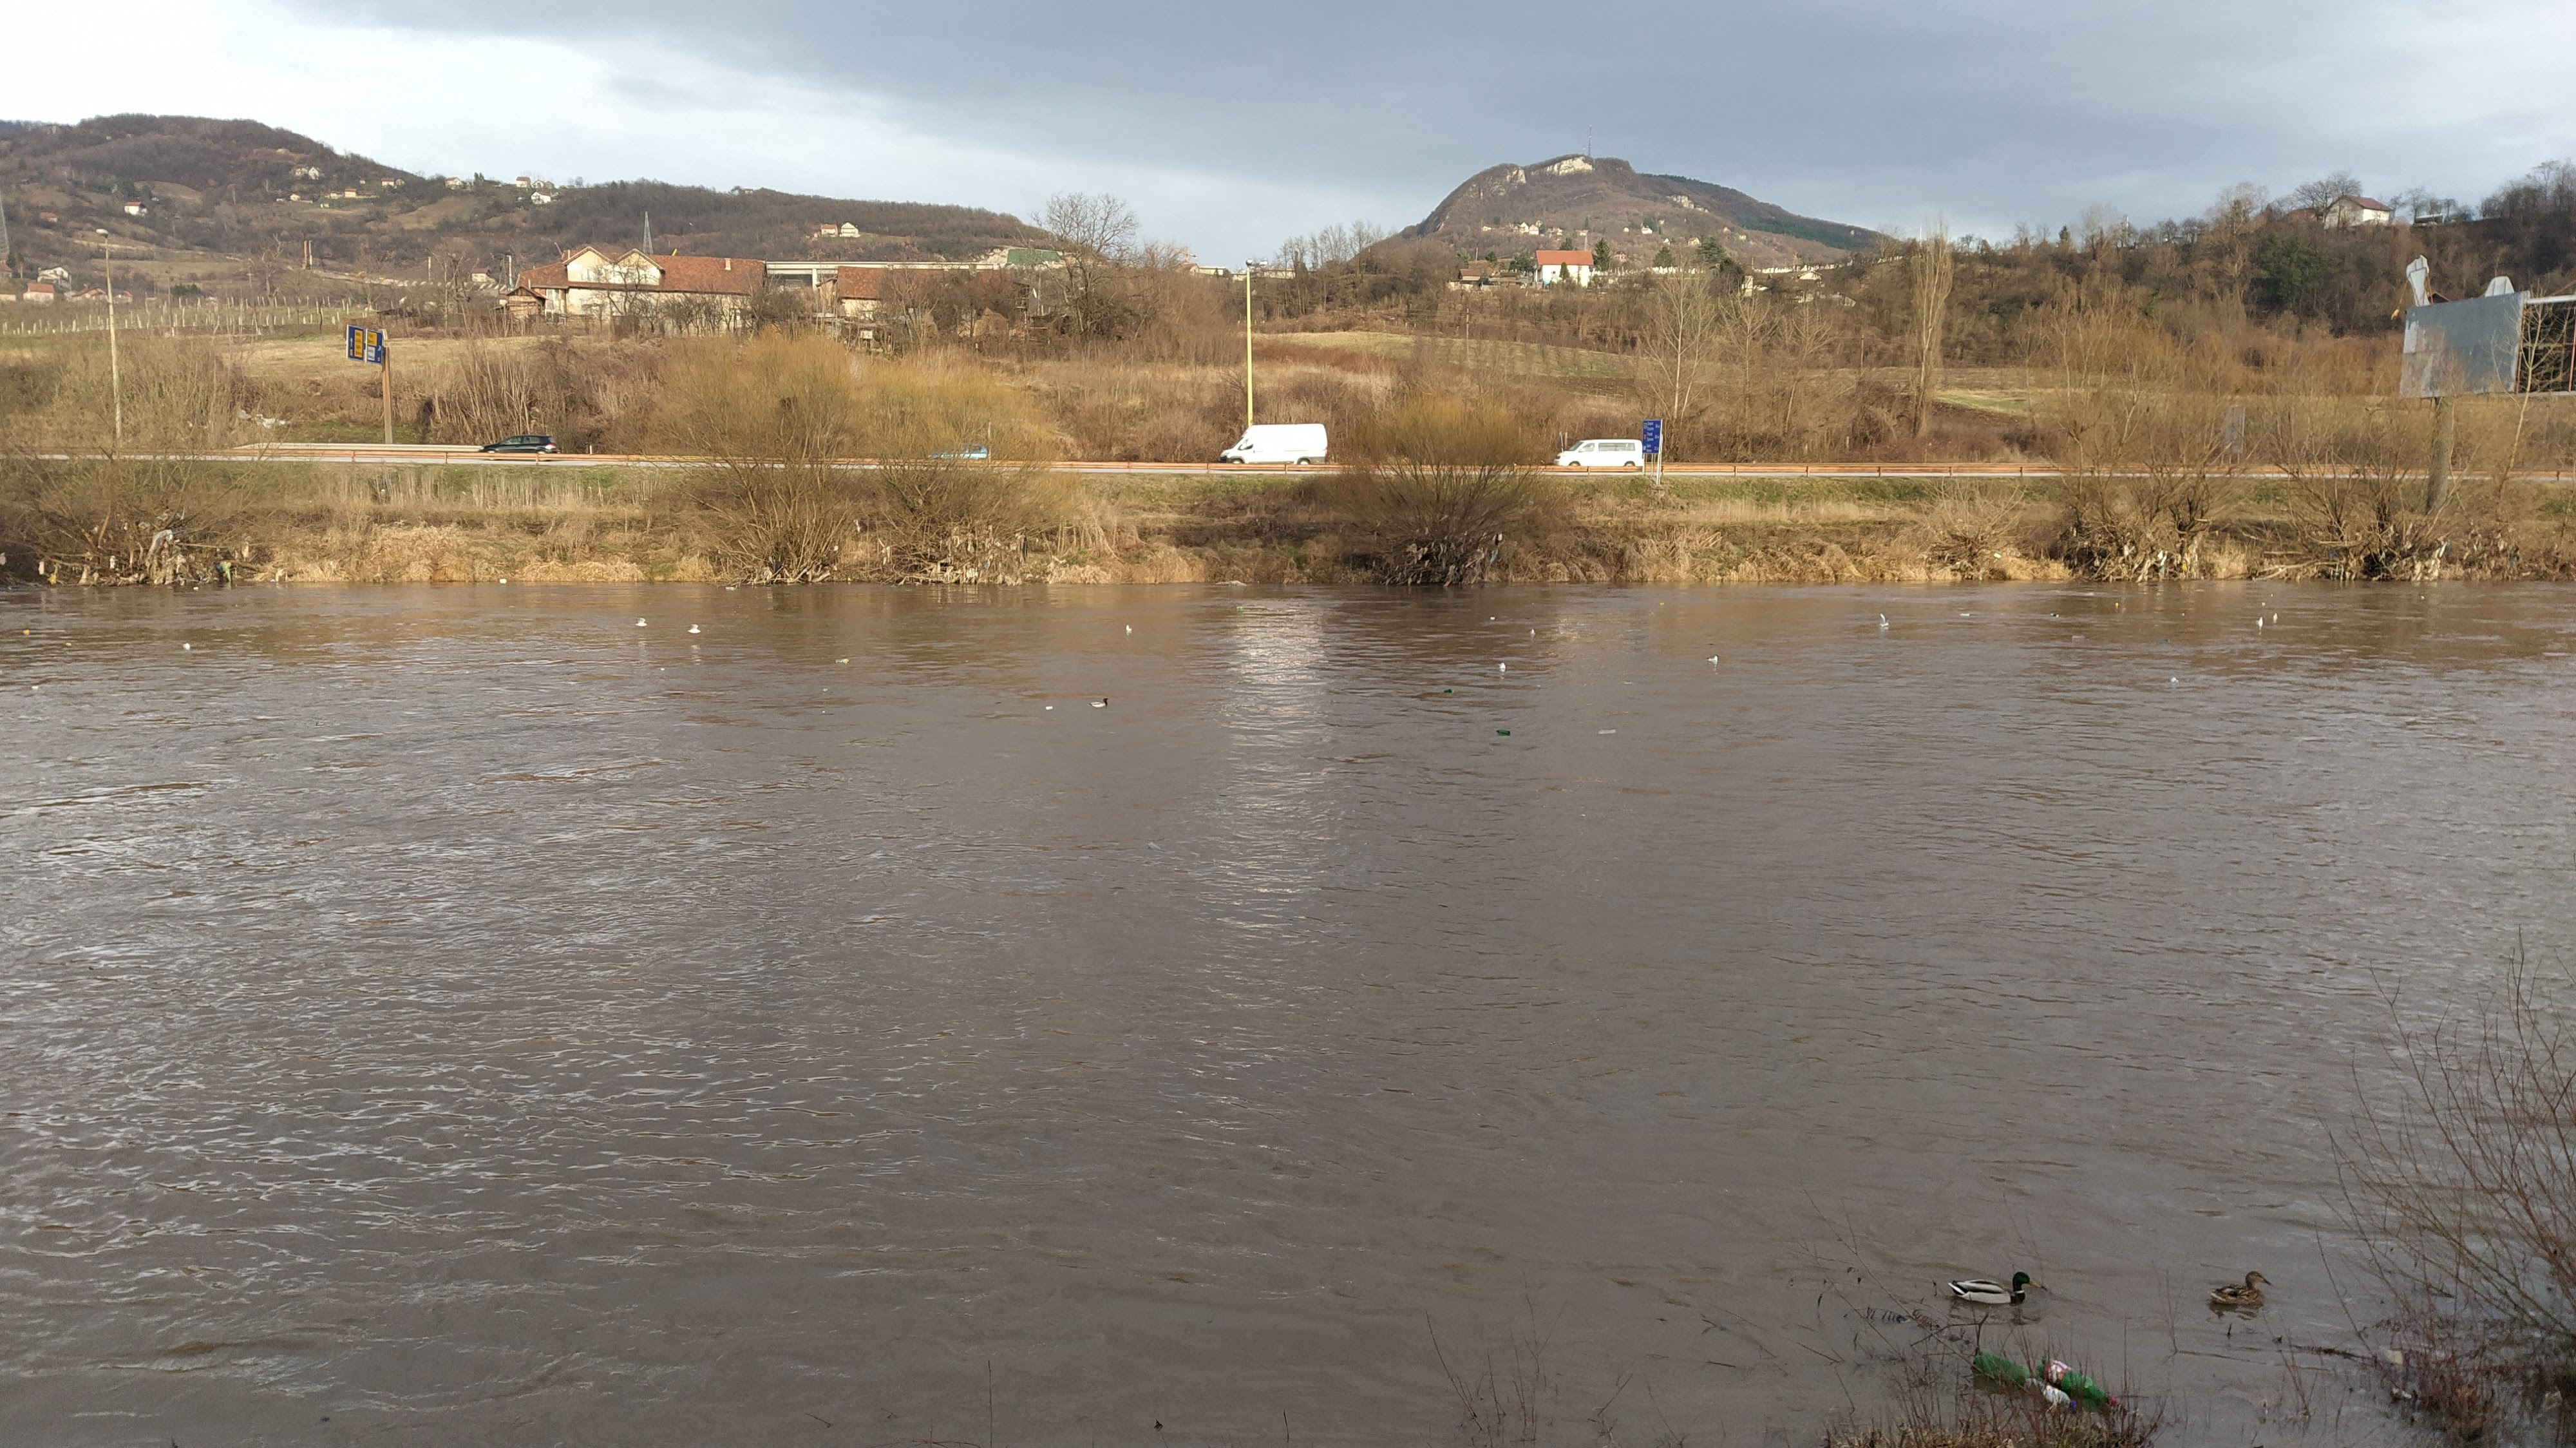Plastic Bottle: (2038, 1358, 2116, 1404), (1973, 1351, 2031, 1383), (2022, 1377, 2075, 1407), (1598, 729, 1615, 735), (1497, 729, 1511, 735), (1148, 843, 1157, 850), (835, 659, 849, 662), (2072, 635, 2084, 639), (2155, 637, 2167, 641), (2171, 676, 2178, 682), (1960, 612, 1969, 616), (727, 586, 734, 589), (1445, 689, 1451, 692)
